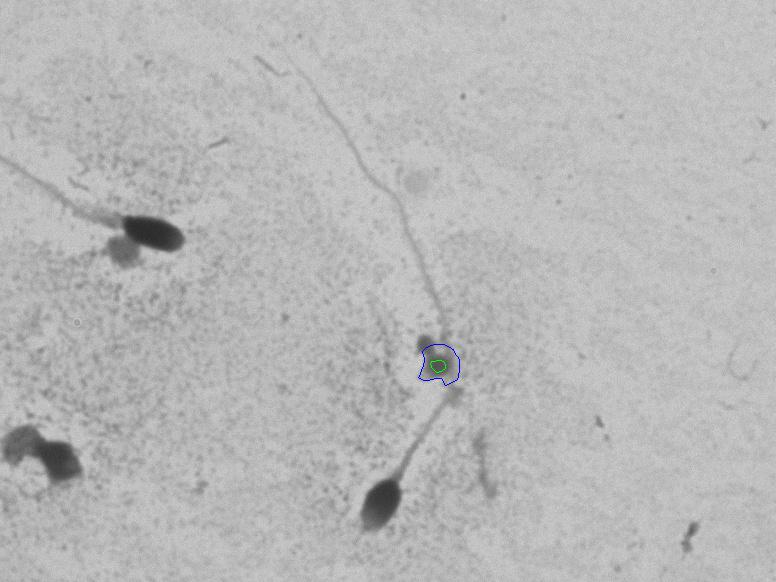Abnormal: (24, 145, 206, 307)
Normal: (257, 47, 540, 558)
